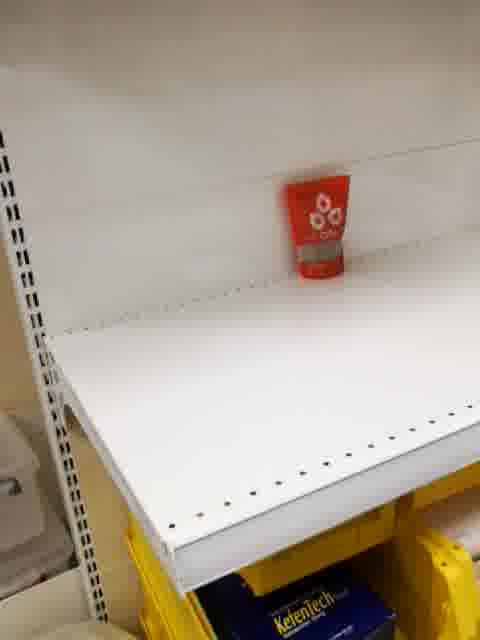whitechia: (281, 172, 351, 282)
